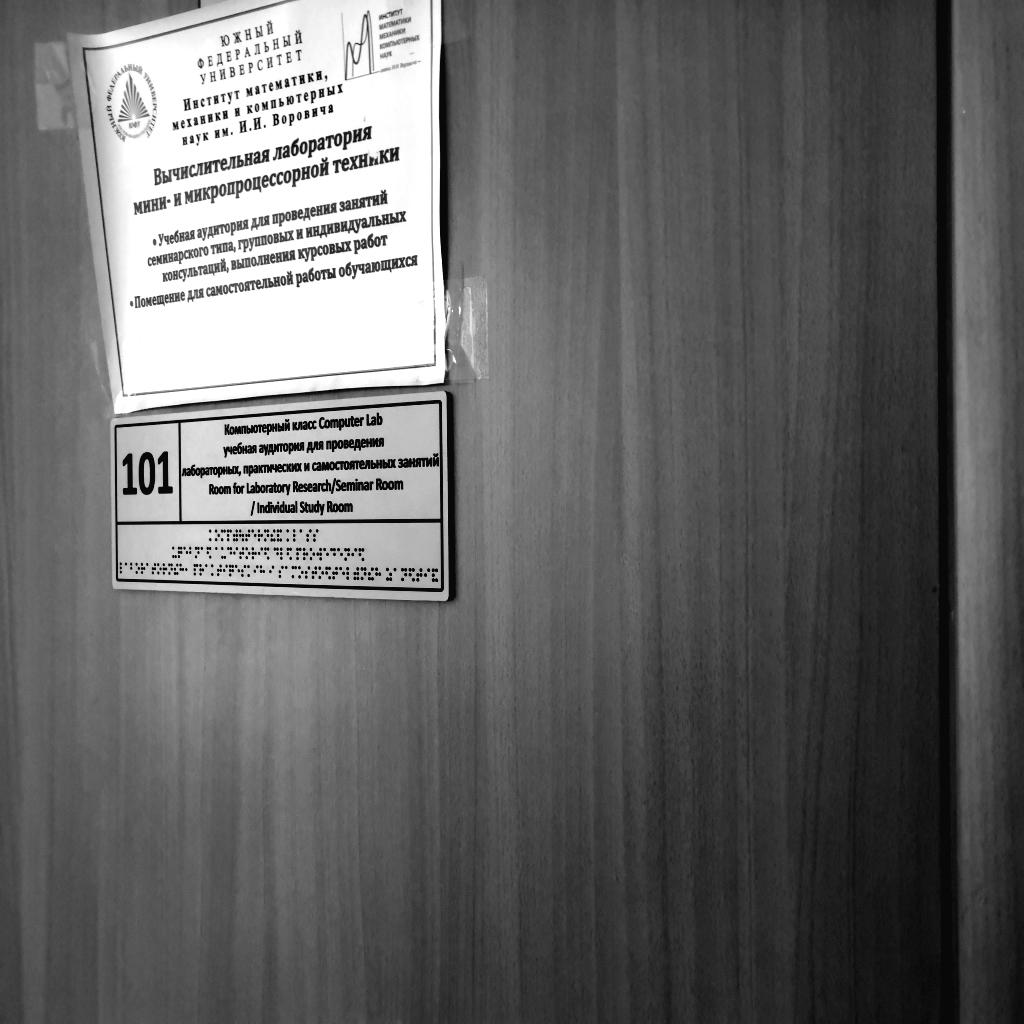_n: (401, 567, 408, 582), (344, 548, 350, 561), (361, 567, 367, 580), (265, 529, 270, 542), (195, 546, 200, 559), (168, 563, 173, 575)
_y: (172, 547, 177, 559), (221, 547, 226, 559)
a: (393, 567, 400, 581), (300, 529, 306, 542), (200, 546, 206, 559), (285, 566, 290, 579), (215, 547, 220, 559), (125, 562, 130, 574), (146, 563, 151, 575), (205, 564, 210, 575)
b: (189, 546, 194, 558), (130, 562, 135, 574)
ch: (178, 547, 183, 559), (229, 565, 234, 577)
d: (330, 548, 336, 561), (274, 547, 279, 560), (227, 547, 232, 559)
e: (337, 547, 343, 561), (339, 566, 345, 580), (323, 548, 329, 561), (235, 564, 240, 577), (252, 529, 257, 541), (184, 546, 188, 558)
i: (423, 568, 431, 582), (351, 548, 357, 561), (233, 547, 239, 559), (258, 547, 263, 560), (254, 565, 259, 578), (223, 565, 228, 577), (269, 565, 274, 577)
iKratkoe: (431, 568, 439, 583), (277, 529, 282, 542)
ii: (368, 567, 374, 581), (271, 529, 276, 542), (174, 564, 179, 576)
k: (286, 529, 292, 542), (247, 565, 253, 578), (209, 529, 214, 542), (211, 564, 216, 576)
l: (347, 567, 353, 581), (293, 529, 299, 542), (280, 548, 286, 561), (120, 562, 124, 574)
m: (292, 565, 298, 579), (221, 529, 225, 542)
myagkiy: (354, 567, 360, 580), (233, 529, 238, 542)
o: (318, 566, 324, 580), (298, 566, 304, 579), (310, 547, 315, 561), (215, 529, 220, 542), (157, 562, 162, 575), (246, 547, 251, 559), (136, 562, 141, 574)
p: (296, 548, 302, 561), (227, 529, 232, 542), (194, 564, 199, 576)
r: (251, 547, 257, 560), (303, 548, 309, 561), (258, 529, 263, 542), (200, 564, 205, 576), (141, 563, 145, 575), (163, 563, 167, 575)
s: (306, 529, 312, 543), (313, 529, 319, 543), (278, 566, 284, 579), (241, 565, 247, 577), (305, 566, 310, 579)
t: (416, 568, 423, 583), (332, 566, 338, 580), (312, 566, 318, 579), (245, 529, 250, 542), (240, 547, 245, 560), (217, 564, 222, 577), (152, 563, 157, 575)
u: (239, 530, 244, 542)
v: (316, 547, 322, 561)
x: (375, 567, 381, 580), (179, 564, 184, 576), (260, 565, 265, 577)
ya: (409, 567, 416, 582), (286, 547, 292, 561), (359, 548, 365, 562), (326, 566, 332, 580), (264, 547, 270, 560), (207, 547, 212, 560)
z: (386, 567, 392, 581)
zapyataya: (185, 564, 190, 575)
